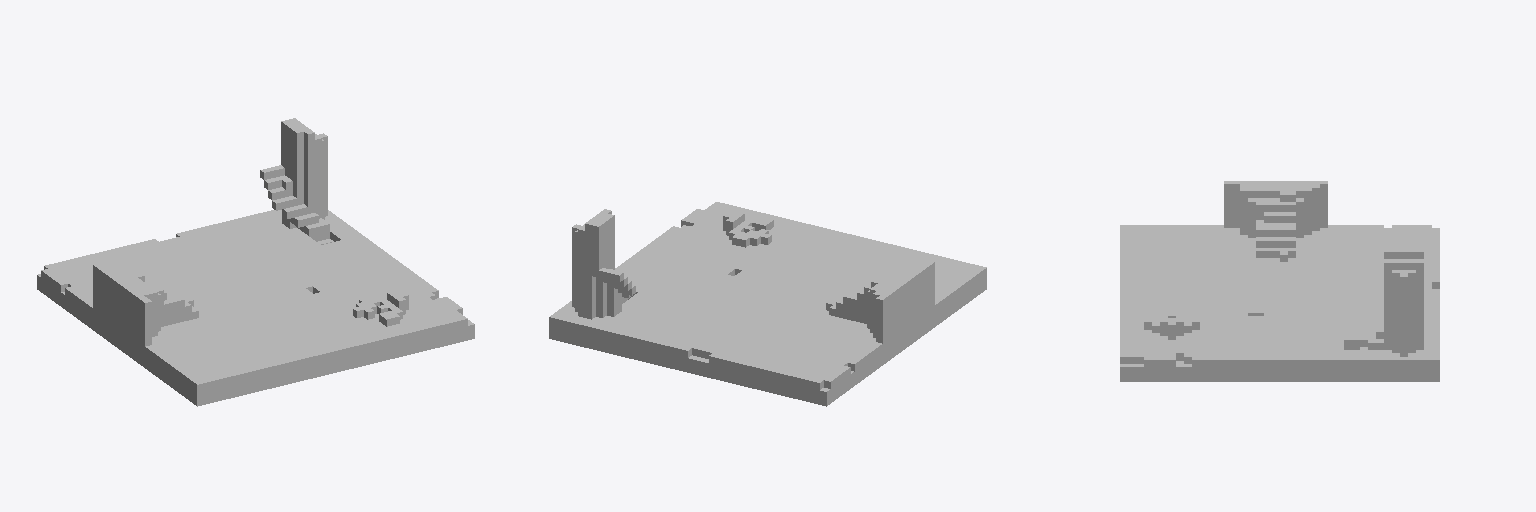
File: lostburg_top.obj
3 views of the same model, side by side, from view 1: azimuth 30°, elevation 25°; view 2: azimuth 150°, elevation 25°; view 3: azimuth 270°, elevation 25° (orthographic).
Parts seen in each view (by area): view 1: Untitled; view 2: Untitled; view 3: Untitled.
Part boxes in pixels (left/top/right/bottom): Untitled: left=37, top=118, right=474, bottom=406; Untitled: left=549, top=202, right=986, bottom=406; Untitled: left=1120, top=181, right=1439, bottom=381.
Size of the model in its own units: 4 by 1.6 by 4.